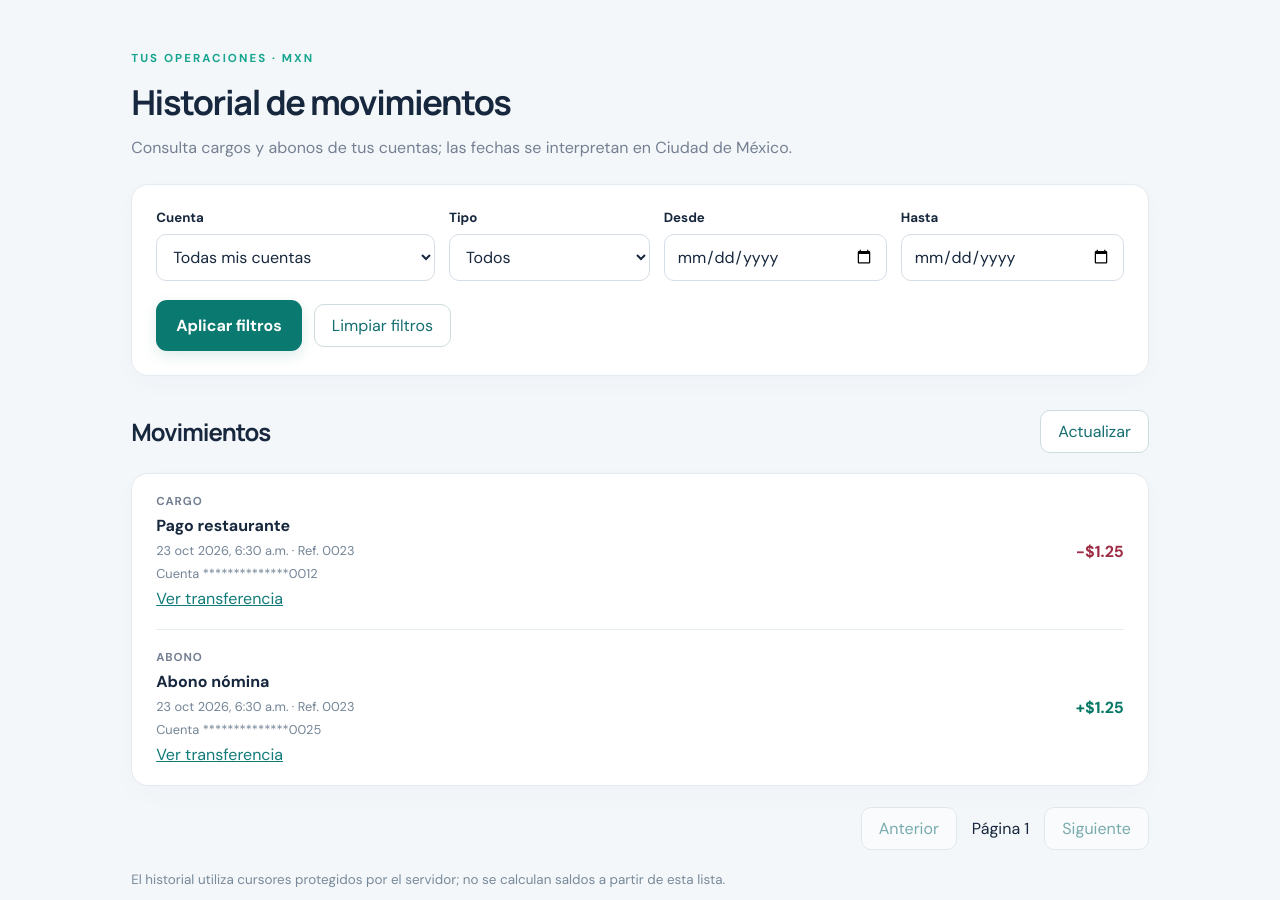
Scenario: T-24 historial web con filtros y paginación por cursor › rechaza fechas invertidas sin enviar otra consulta
This screenshot has width=1280, height=900.
Expected: the text "Pago restaurante" is shown, [156, 515, 290, 536]
Type "2026-10-23" into the date field labelled "Desde".
click(775, 257); type("2026-10-23")  # box [664, 234, 887, 281]
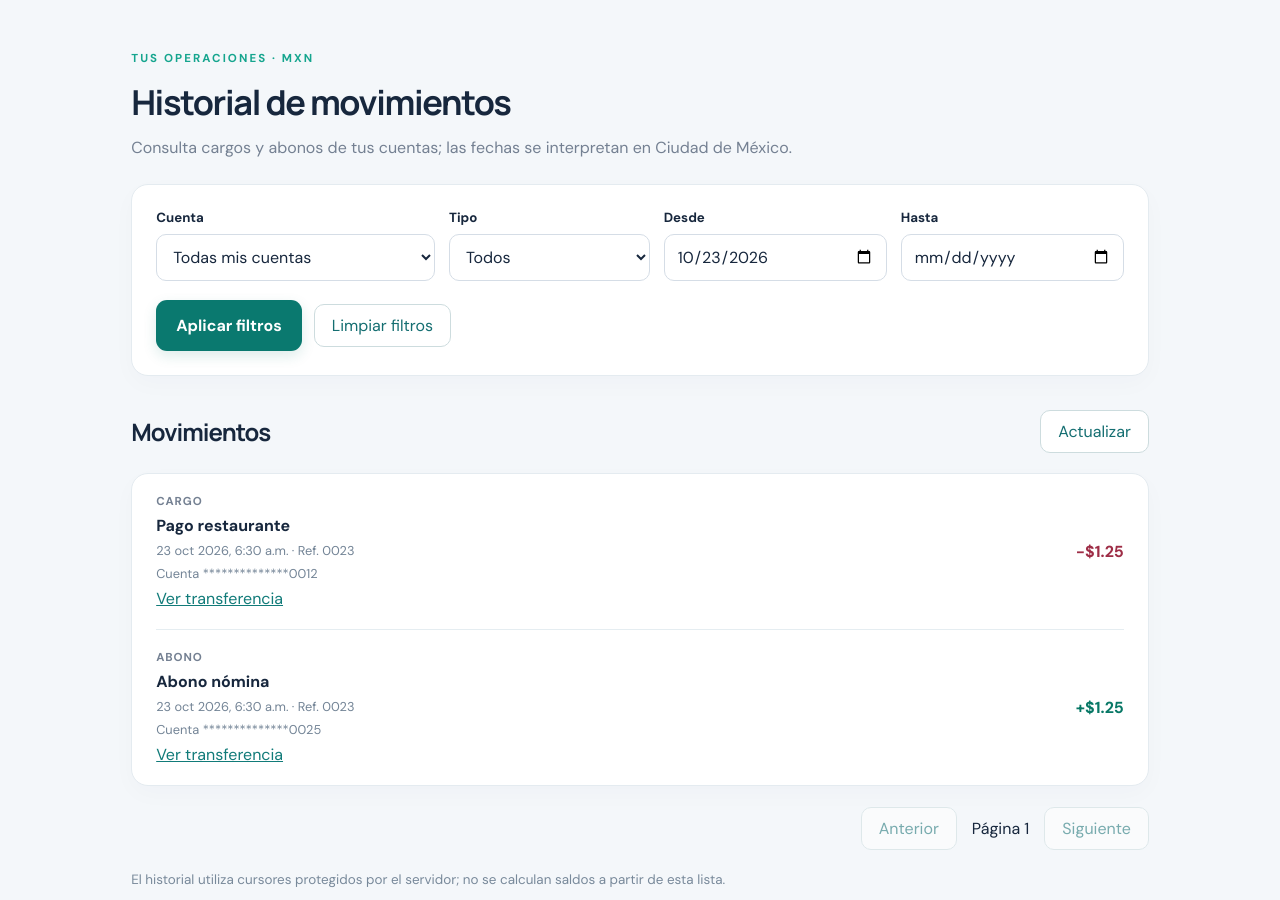
Type "2026-10-22" into the date field labelled "Hasta".
click(1012, 257); type("2026-10-22")  # box [901, 234, 1124, 281]
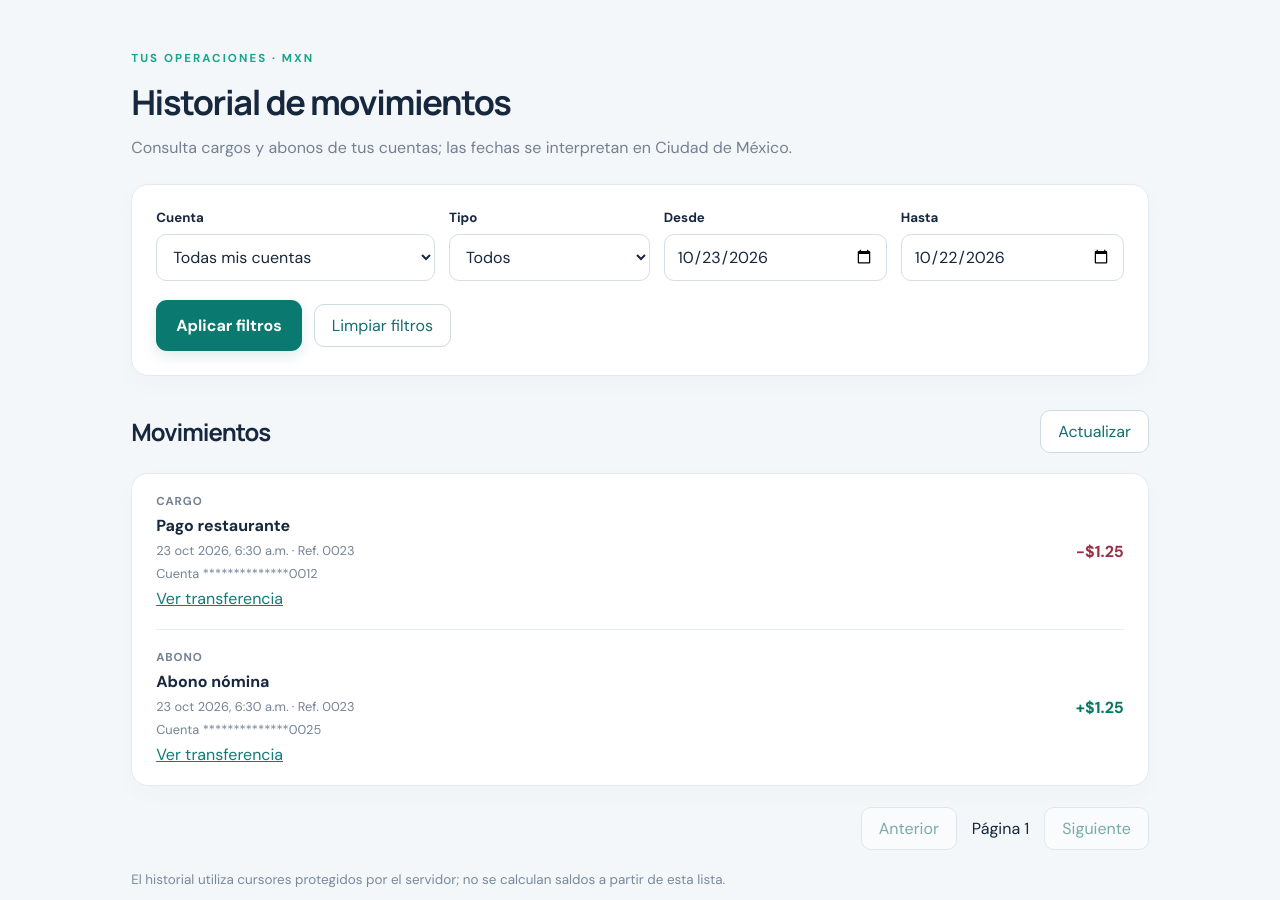
Click the button "Aplicar filtros".
click(229, 325)  # box [156, 300, 302, 351]
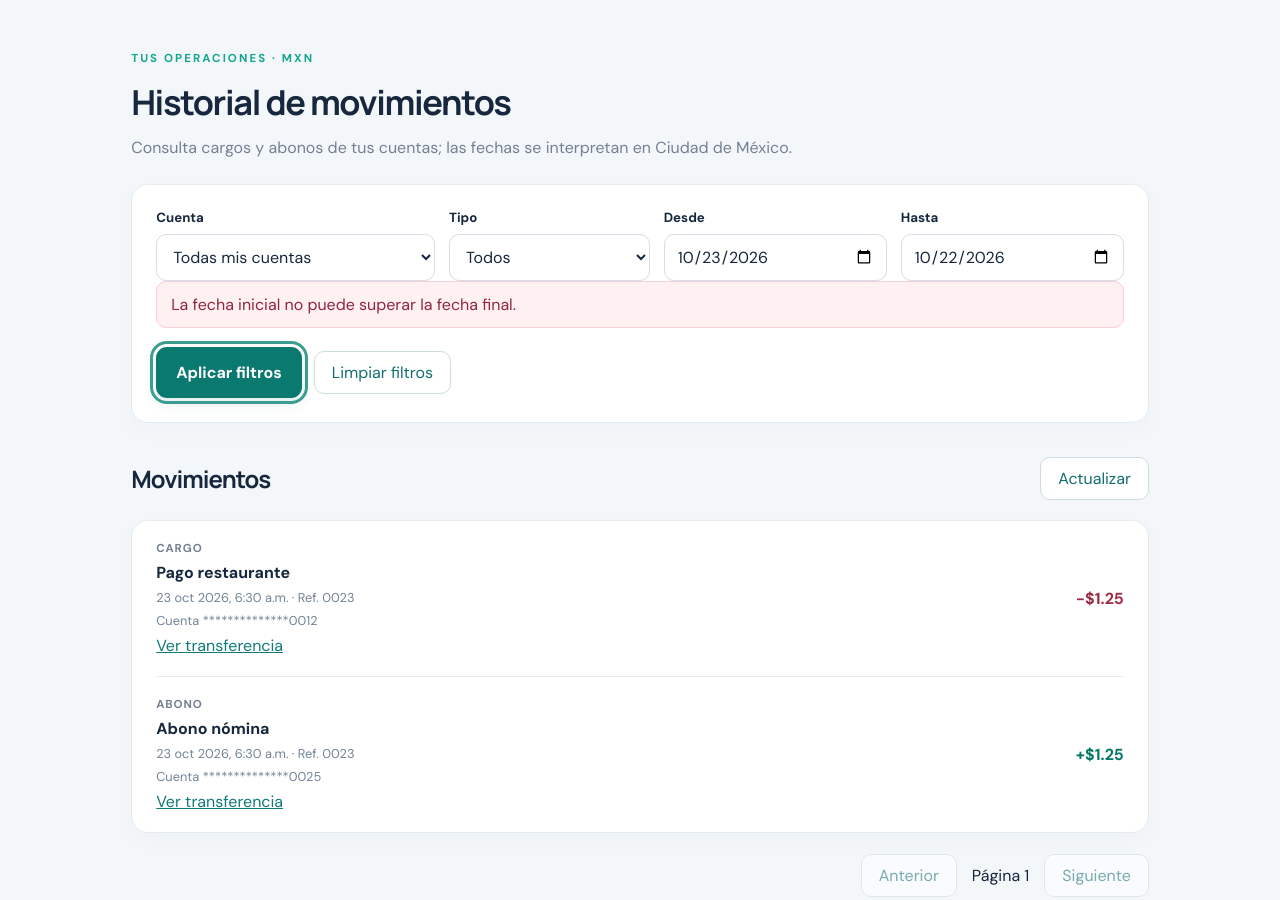
Now the message reads "La fecha inicial no puede superar la fecha final.", box [171, 294, 516, 315]
